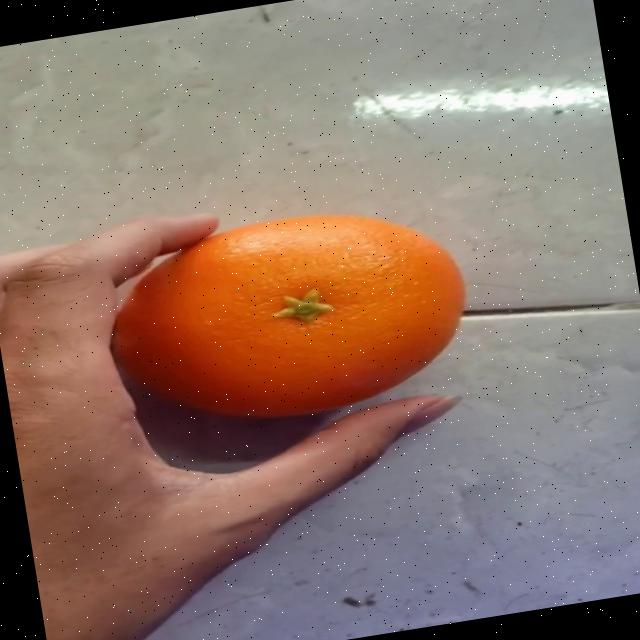orange: (76, 144, 506, 462)
